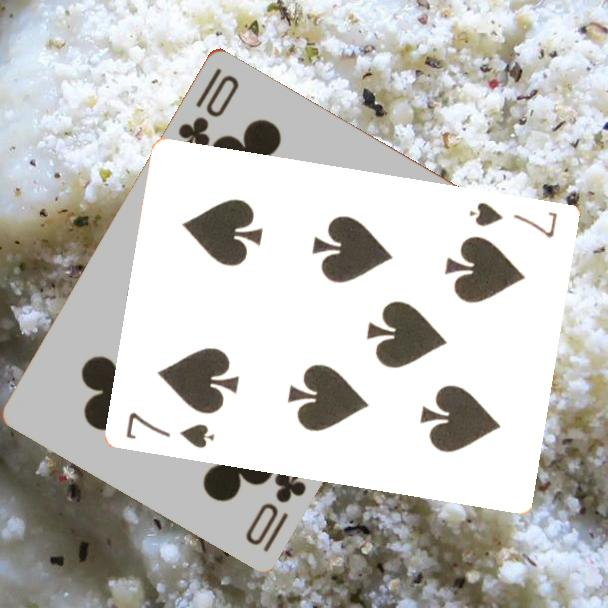c10: (174, 63, 242, 152), (241, 466, 309, 555)
s07: (466, 198, 561, 241), (123, 408, 218, 451)
